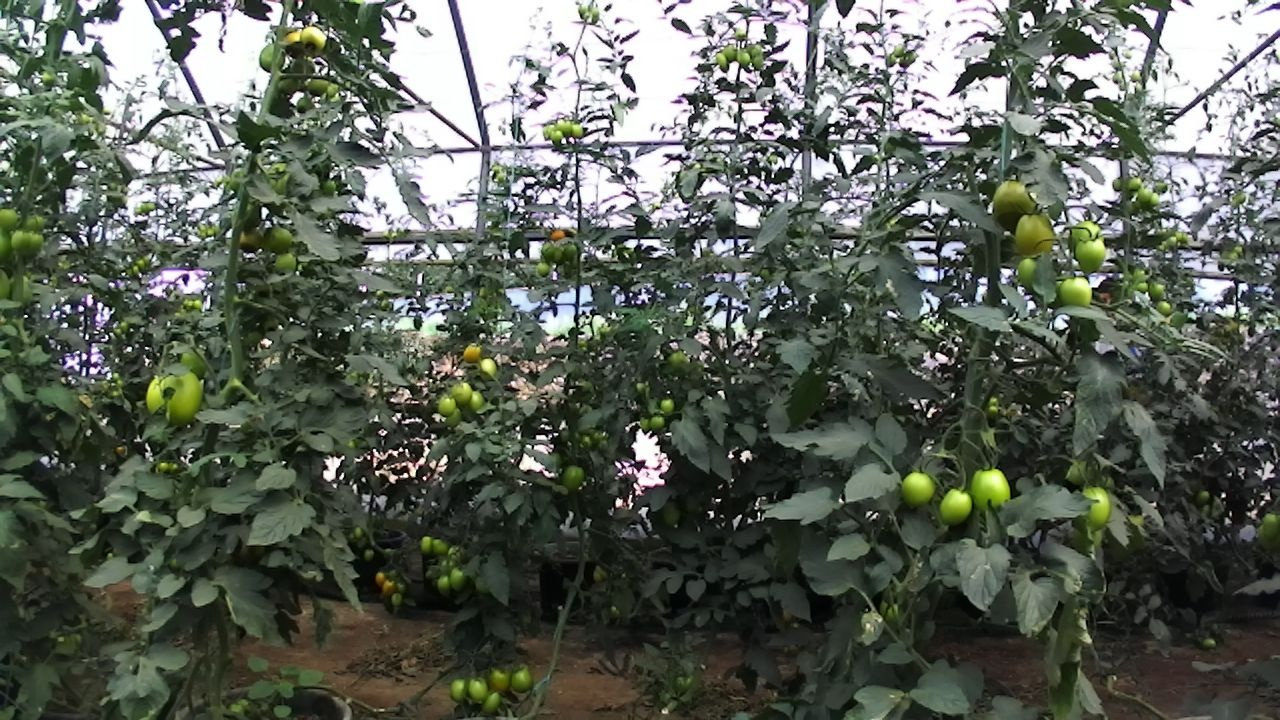tomato: (137, 358, 213, 432), (959, 453, 1028, 531), (986, 170, 1051, 237), (1062, 474, 1124, 544), (1007, 203, 1068, 267), (926, 478, 986, 535), (894, 464, 943, 518), (1052, 268, 1102, 318), (1064, 212, 1110, 263), (1070, 232, 1111, 281), (1010, 250, 1050, 297), (293, 19, 333, 63), (254, 34, 295, 75), (660, 340, 700, 380), (257, 219, 297, 258), (556, 457, 594, 498), (235, 217, 273, 258), (460, 381, 497, 420), (461, 669, 494, 709), (446, 373, 478, 411), (484, 662, 518, 697), (444, 671, 473, 711), (272, 64, 305, 99), (285, 52, 322, 83), (472, 349, 504, 384), (20, 205, 51, 241), (658, 494, 688, 531), (508, 662, 539, 697), (17, 225, 46, 262), (476, 688, 509, 720), (458, 335, 489, 369), (270, 246, 301, 280), (1256, 506, 1280, 549), (0, 200, 26, 238), (430, 568, 458, 602), (303, 70, 335, 99), (291, 88, 320, 119), (433, 387, 460, 420), (6, 225, 36, 254), (445, 563, 471, 595), (442, 401, 467, 431), (1145, 276, 1170, 305), (635, 408, 659, 438), (428, 533, 454, 560), (1154, 293, 1180, 320), (545, 224, 570, 248), (1191, 485, 1214, 509), (720, 41, 742, 65), (1107, 170, 1129, 194), (534, 256, 555, 281), (416, 532, 438, 555), (646, 412, 668, 435), (556, 116, 578, 139), (734, 45, 755, 69), (1135, 183, 1156, 207), (743, 39, 765, 61), (1124, 173, 1147, 194), (378, 575, 399, 597), (659, 394, 678, 418), (1144, 188, 1164, 209), (387, 588, 407, 609), (568, 119, 586, 142), (1133, 275, 1152, 296), (713, 49, 731, 71), (372, 568, 390, 590), (548, 127, 566, 147), (750, 52, 766, 72)
